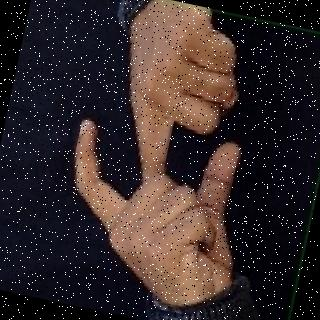E: (45, 0, 287, 313)
